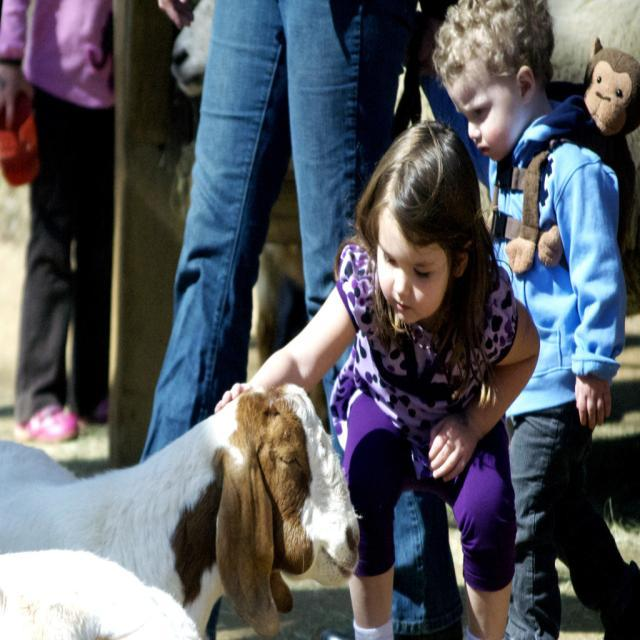Goat: (0, 380, 362, 637)
